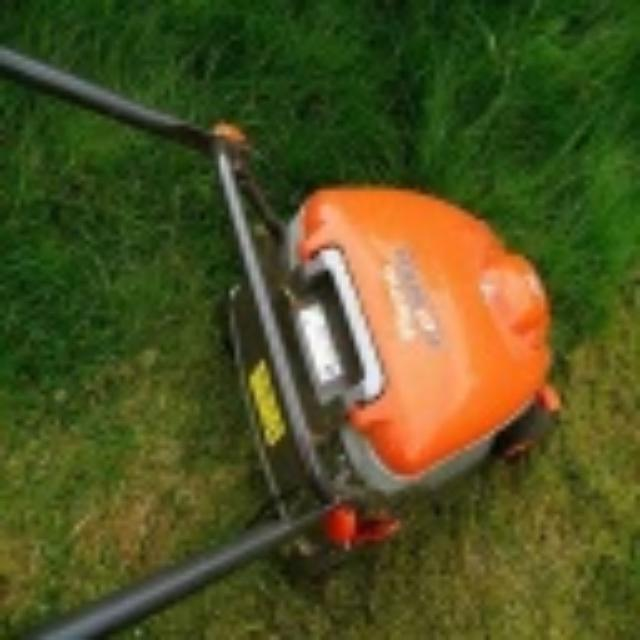Rotary-Mower: (1, 42, 583, 640)
